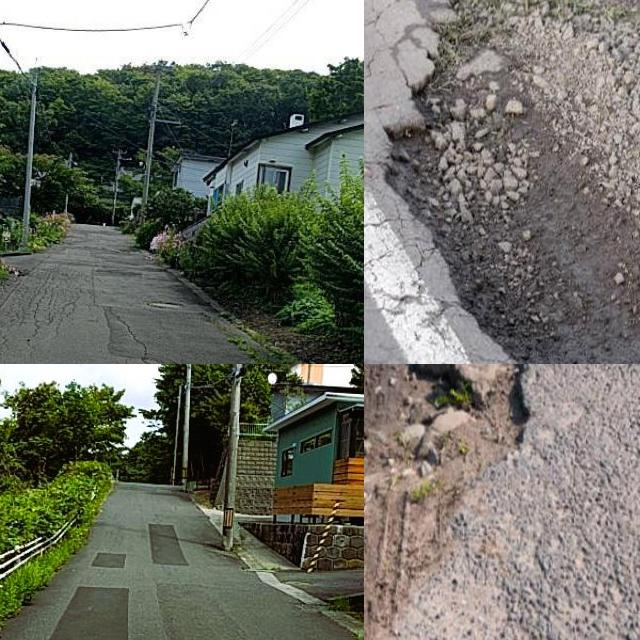Pinggir: (384, 0, 640, 364), (364, 364, 551, 540)
Sambungan: (105, 313, 261, 364), (145, 523, 186, 566), (95, 552, 128, 571)
